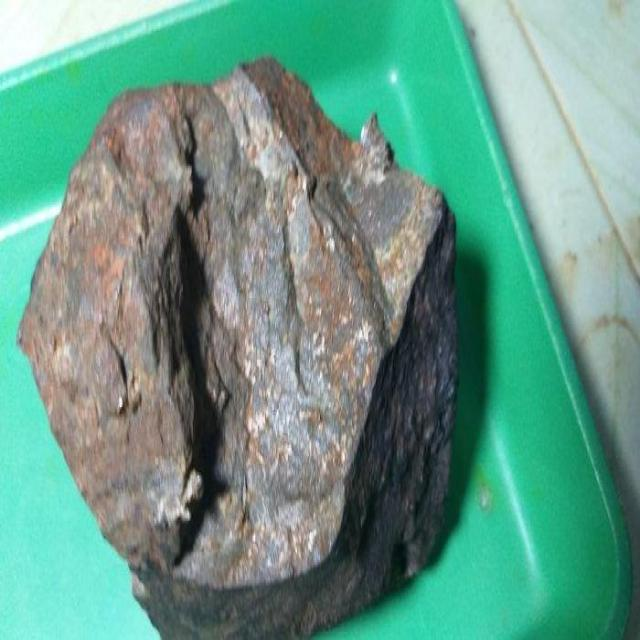Pecahan Agregat: (39, 73, 487, 640)
